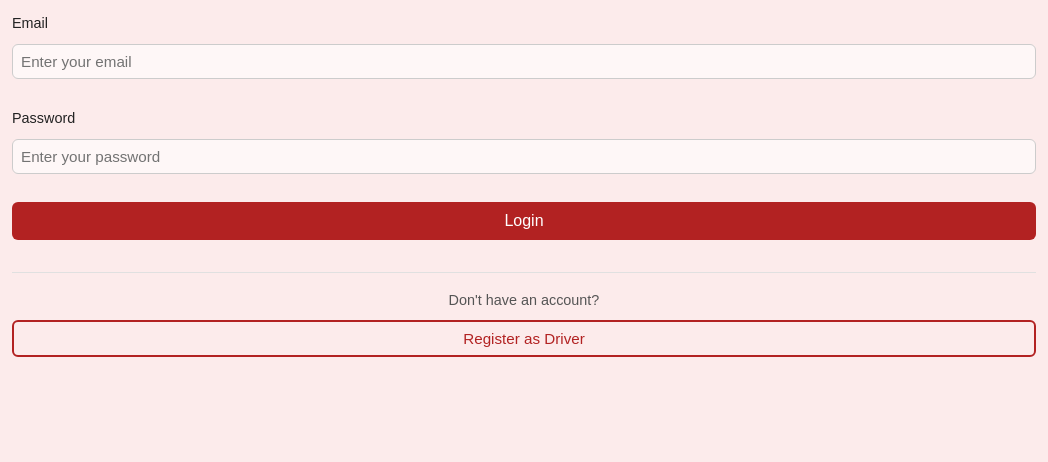
Test: DriverLoginForm Component › handles failed login
Step 1. Type "wrong@example.com" into the field labelled "Email" → [524, 61], box [12,44,1036,79]
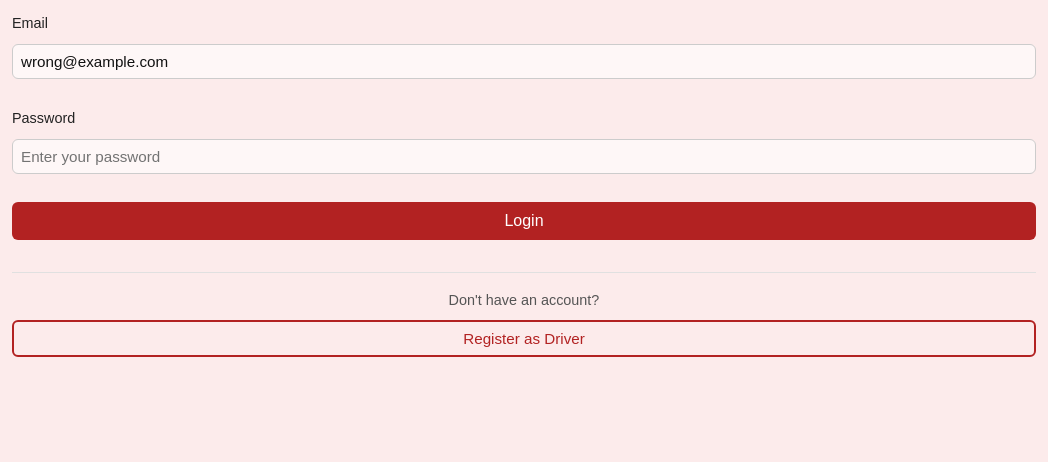
Step 2. Type "wrongpass" into the password field labelled "Password" → [524, 156], box [12,139,1036,174]
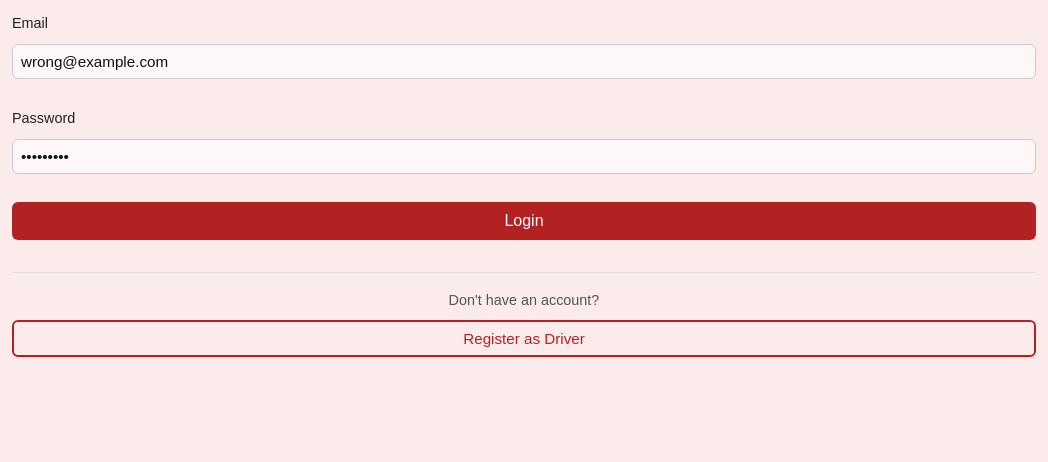
Step 3. Click the button "Login" → [524, 221], box [12,202,1036,240]
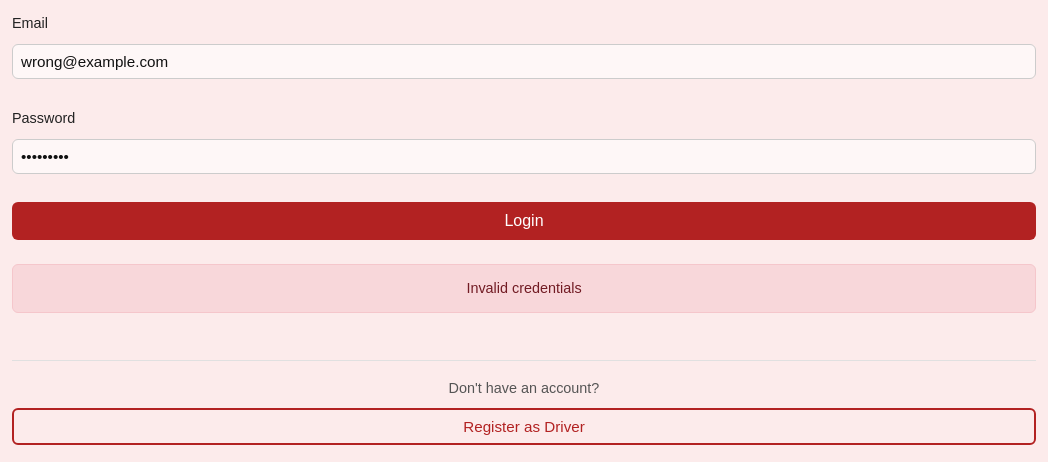
Now the text "Invalid credentials" is shown, box [12,264,1036,313]
